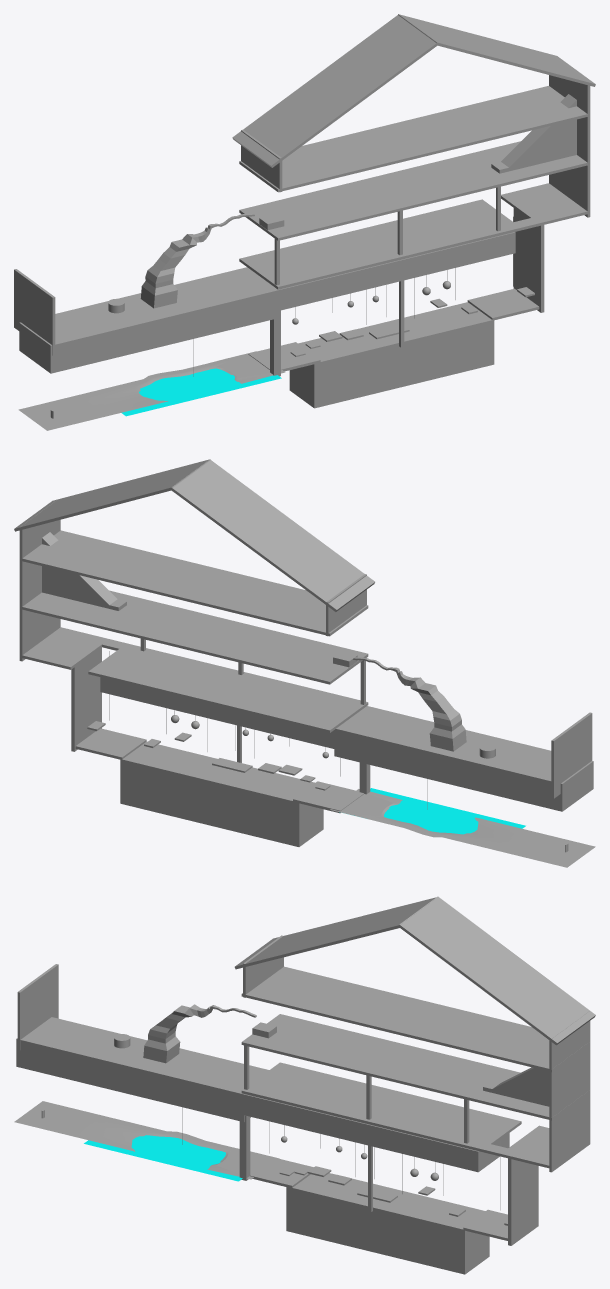
Rendered from escenariobase01.fbx.
3 renders of one model, top to bottom at view 1: azimuth 30°, elevation 25°; view 2: azimuth 150°, elevation 25°; view 3: azimuth 330°, elevation 25°, orthographic.
Visible parts, largest first — view 1: pCube1, pCube27, pCube22, pCube18, pCube25, pCube16, pCube14, pPlane1, pCube24, pCube17, pPlane2, pCube30 (+8 smaller); view 2: pCube27, pCube1, pCube22, pCube18, pCube16, pCube25, pPlane1, pCube14, pCube24, pCube17, pPlane2, pCube31 (+7 smaller); view 3: pCube1, pCube27, pCube22, pCube18, pCube16, pCube24, pCube14, pCube17, pPlane1, pCube25, pPlane2, pCube6 (+8 smaller).
Boxes of the visible parts, bbox=[...] form: pCube1: bbox=[19, 267, 280, 373]; pCube27: bbox=[289, 302, 494, 408]; pCube22: bbox=[239, 86, 590, 192]; pCube18: bbox=[239, 141, 590, 240]; pCube25: bbox=[232, 15, 438, 167]; pCube16: bbox=[239, 199, 540, 289]; pCube14: bbox=[272, 232, 515, 312]; pPlane1: bbox=[18, 351, 285, 430]; pCube24: bbox=[398, 14, 595, 86]; pCube17: bbox=[549, 55, 590, 217]; pPlane2: bbox=[121, 368, 281, 416]; pCube30: bbox=[491, 94, 576, 173]; pCube27: bbox=[120, 741, 323, 846]; pCube1: bbox=[334, 706, 593, 811]; pCube22: bbox=[19, 530, 368, 636]; pCube18: bbox=[19, 590, 368, 684]; pCube16: bbox=[88, 639, 368, 732]; pCube25: bbox=[170, 460, 374, 611]; pPlane1: bbox=[330, 789, 595, 867]; pCube14: bbox=[100, 677, 341, 750]; pCube24: bbox=[14, 459, 210, 531]; pCube17: bbox=[19, 499, 60, 661]; pPlane2: bbox=[339, 788, 525, 834]; pCube31: bbox=[353, 657, 466, 751]; pCube1: bbox=[16, 1017, 268, 1122]; pCube27: bbox=[286, 1173, 489, 1274]; pCube22: bbox=[241, 966, 590, 1071]; pCube18: bbox=[241, 1014, 590, 1120]; pCube16: bbox=[241, 1062, 521, 1156]; pCube24: bbox=[398, 896, 595, 1045]; pCube14: bbox=[237, 1093, 509, 1172]; pCube17: bbox=[549, 1011, 590, 1172]; pPlane1: bbox=[14, 1101, 279, 1179]; pCube25: bbox=[234, 897, 437, 969]; pPlane2: bbox=[84, 1135, 242, 1181]; pCube6: bbox=[508, 1158, 538, 1245].
Size of what is drawn, in the model's own units: 252 by 150 by 33.62.
